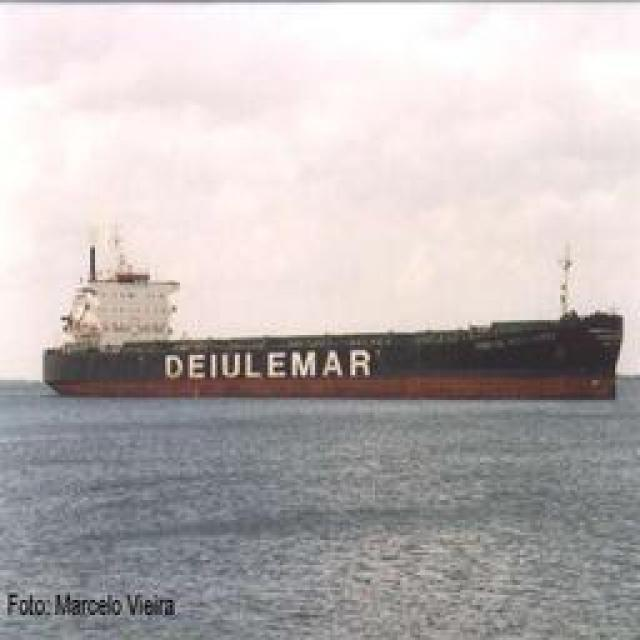CIV_Ship: (46, 281, 619, 401)
